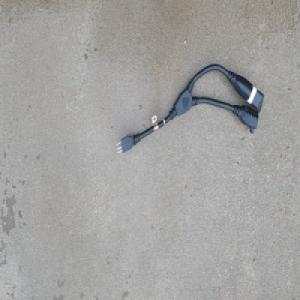Wire: (115, 61, 265, 155)
